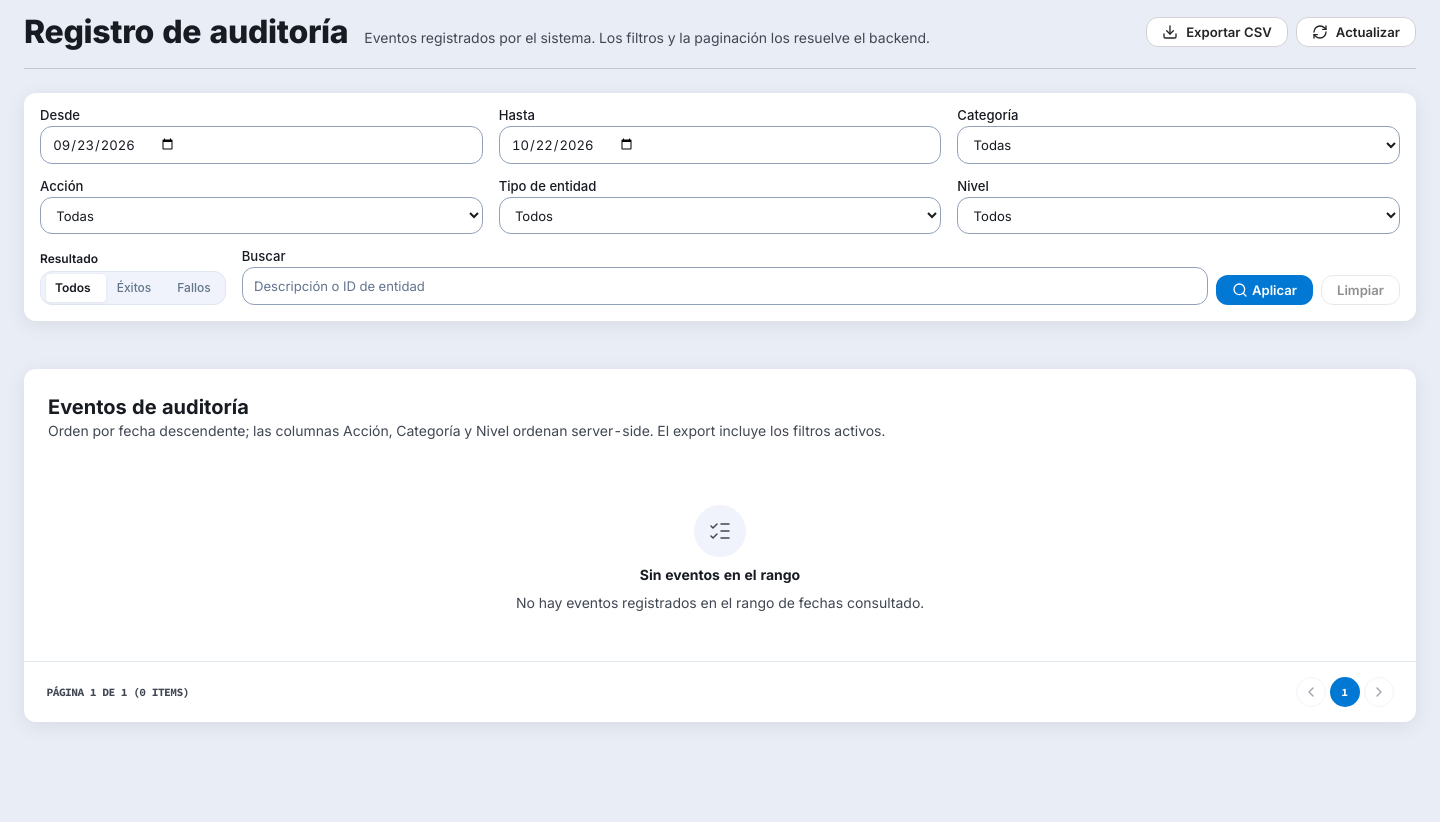
Test: AuditLogsPage (F10) › empty honesto: con filtros y sin filtros
The width and height of the screenshot is (1440, 822).
Check: the text "Sin eventos en el rango" is shown, box [640,565,800,585]
In the search field with placeholder "Descripción o ID de entidad": {"x": 725, "y": 286} [242,267,1208,305], type "zzz"
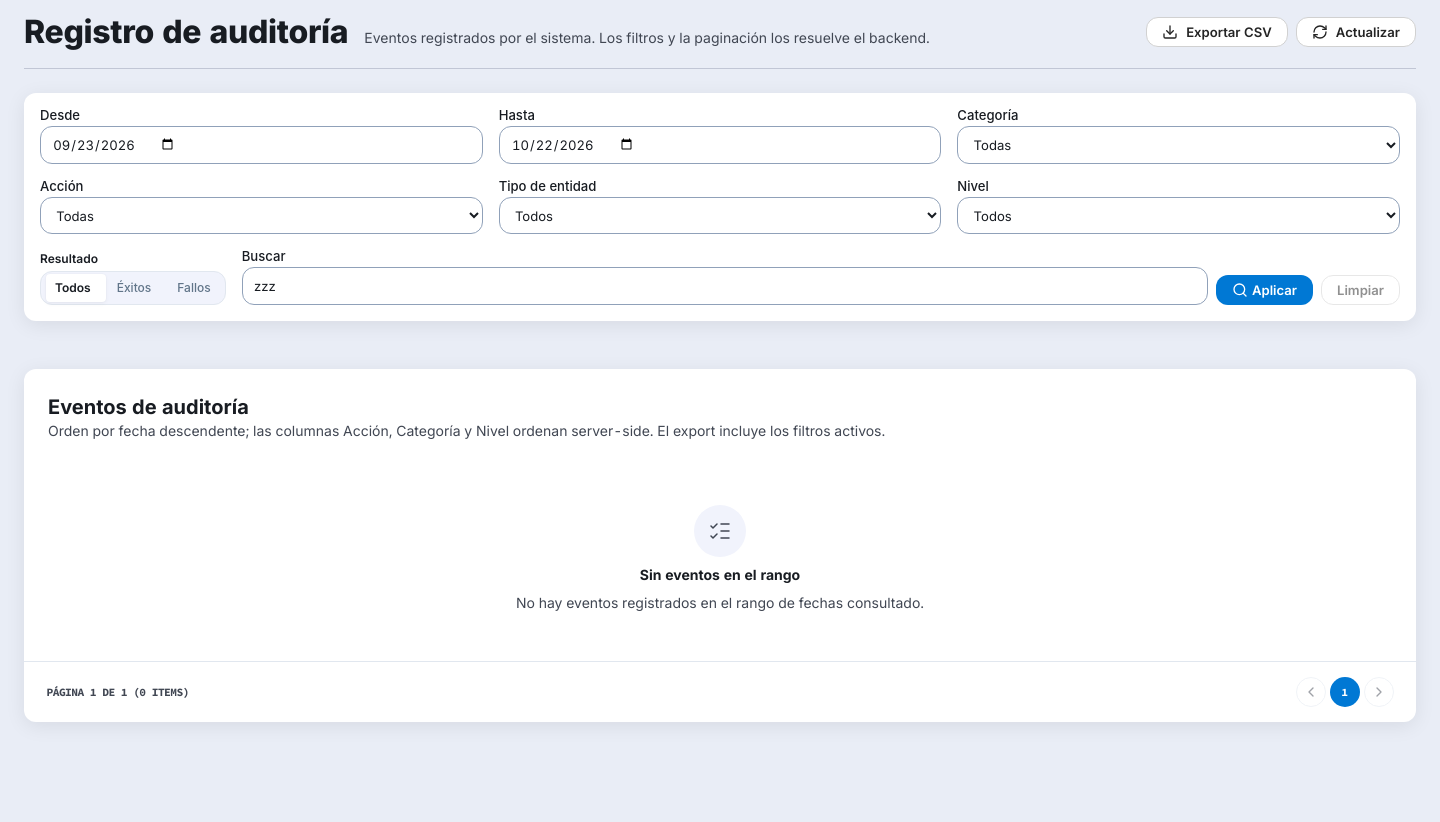
Press Enter in the search field with placeholder "Descripción o ID de entidad", box [242,267,1208,305]
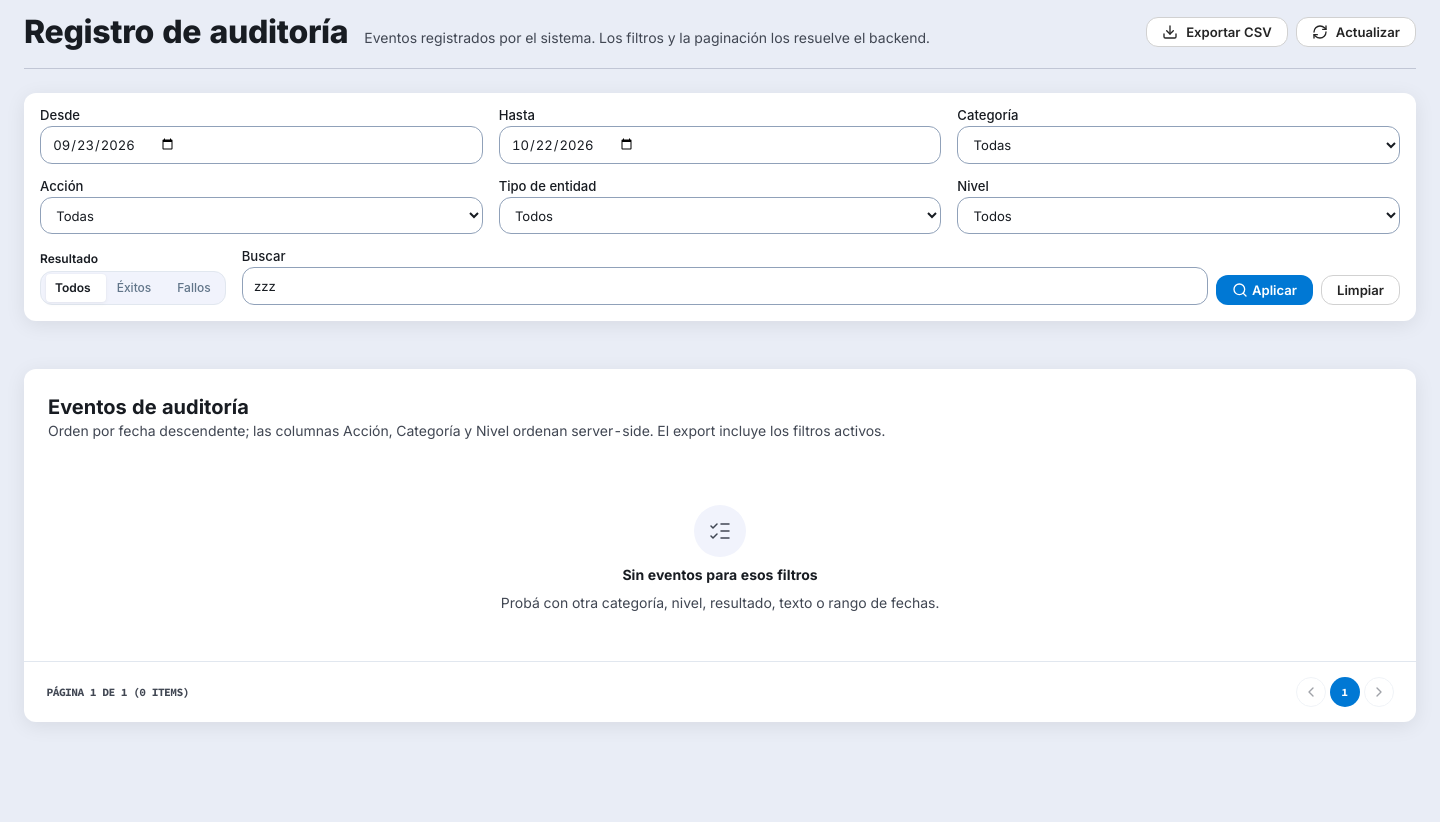
Check: the text "Sin eventos para esos filtros" is shown, box [622,565,818,585]
